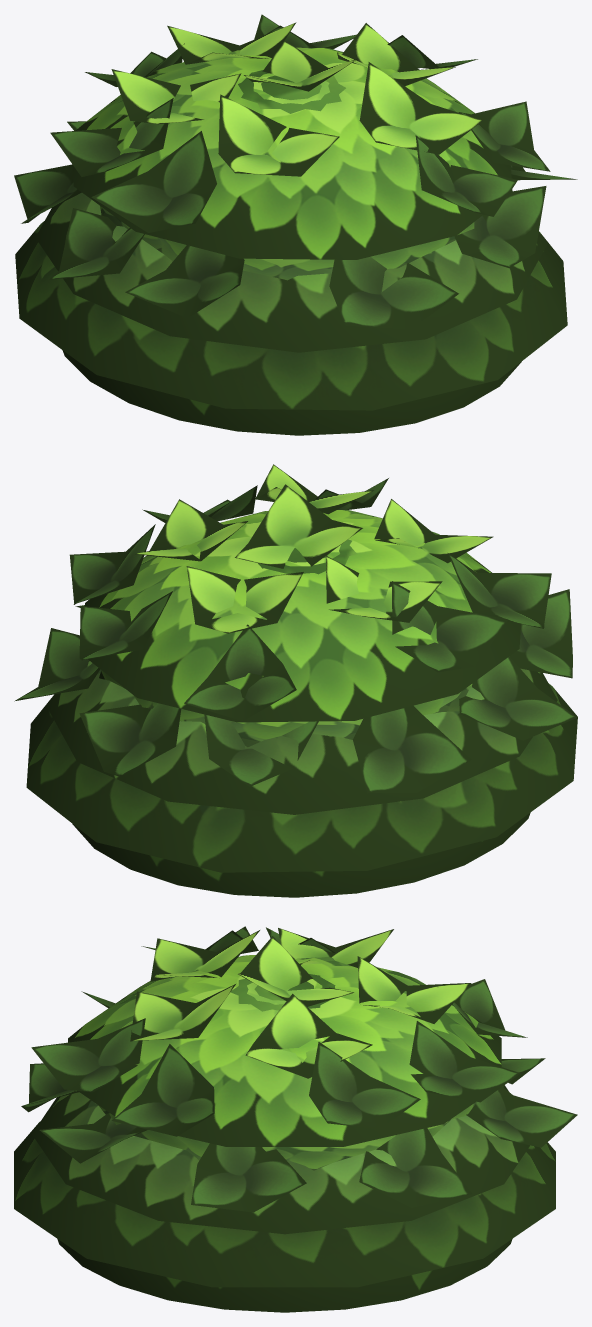
The model's file is bush.fbx.
The picture shows the model from 3 angles, top to bottom: view 1: azimuth 30°, elevation 25°; view 2: azimuth 150°, elevation 25°; view 3: azimuth 270°, elevation 25°; orthographic projection. The views are drawn at different scales.
Parts seen in each view (by area): view 1: stylized bush.001, stylized bush.004, stylized bush.003, stylized bush, stylized bush.011, stylized bush.024, stylized bush.006, stylized bush.005, stylized bush.002, stylized bush.012, stylized bush.023, stylized bush.013 (+11 smaller); view 2: stylized bush.001, stylized bush.004, stylized bush.003, stylized bush, stylized bush.014, stylized bush.016, stylized bush.010, stylized bush.013, stylized bush.019, stylized bush.015, stylized bush.008, stylized bush.011 (+12 smaller); view 3: stylized bush.004, stylized bush.001, stylized bush.003, stylized bush, stylized bush.022, stylized bush.020, stylized bush.018, stylized bush.025, stylized bush.026, stylized bush.017, stylized bush.007, stylized bush.002 (+11 smaller).
Part boxes in pixels (bbox=[...]): stylized bush.001: bbox=[72, 47, 512, 259]; stylized bush.004: bbox=[15, 221, 567, 410]; stylized bush.003: bbox=[35, 192, 547, 352]; stylized bush: bbox=[62, 350, 521, 435]; stylized bush.011: bbox=[91, 131, 216, 232]; stylized bush.024: bbox=[329, 256, 458, 329]; stylized bush.006: bbox=[359, 62, 482, 154]; stylized bush.005: bbox=[218, 94, 339, 176]; stylized bush.002: bbox=[100, 70, 474, 280]; stylized bush.012: bbox=[125, 245, 244, 318]; stylized bush.023: bbox=[454, 186, 546, 267]; stylized bush.013: bbox=[49, 208, 144, 279]; stylized bush.001: bbox=[85, 510, 521, 722]; stylized bush.004: bbox=[26, 683, 577, 872]; stylized bush.003: bbox=[47, 661, 557, 814]; stylized bush: bbox=[72, 812, 530, 897]; stylized bush.014: bbox=[353, 705, 471, 793]; stylized bush.016: bbox=[184, 624, 296, 720]; stylized bush.010: bbox=[235, 484, 362, 568]; stylized bush.013: bbox=[459, 656, 577, 740]; stylized bush.019: bbox=[79, 703, 181, 776]; stylized bush.015: bbox=[392, 581, 508, 672]; stylized bush.008: bbox=[186, 566, 303, 633]; stylized bush.011: bbox=[448, 553, 551, 628]; stylized bush.004: bbox=[14, 1122, 555, 1287]; stylized bush.001: bbox=[68, 955, 501, 1146]; stylized bush.003: bbox=[32, 1085, 529, 1234]; stylized bush: bbox=[57, 1239, 512, 1312]; stylized bush.022: bbox=[191, 1143, 306, 1212]; stylized bush.020: bbox=[359, 1128, 471, 1207]; stylized bush.018: bbox=[309, 1042, 420, 1128]; stylized bush.025: bbox=[111, 1044, 214, 1136]; stylized bush.026: bbox=[31, 1018, 145, 1092]; stylized bush.017: bbox=[409, 1021, 520, 1102]; stylized bush.007: bbox=[245, 993, 372, 1078]; stylized bush.002: bbox=[98, 974, 476, 1170].
Bounding box in the file's own units: 151 × 85.85 × 158.
